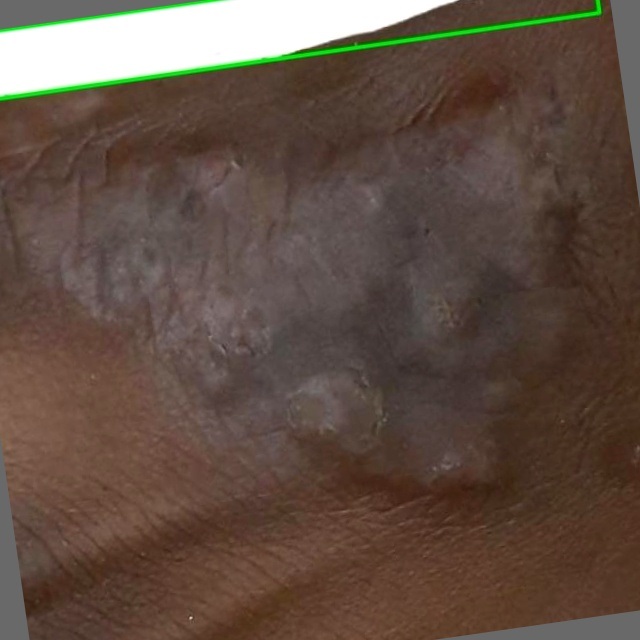Seborrheic Dermatitis: (0, 0, 599, 98)
